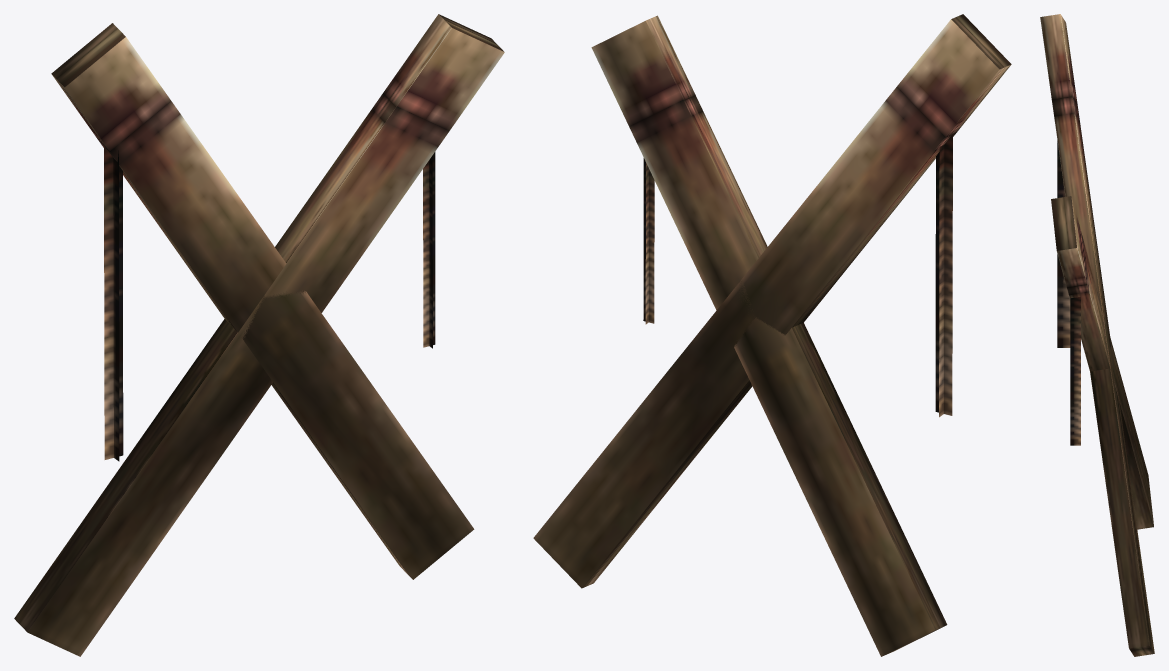
File: stst98.dae
3 views of the same model, side by side, from view 1: azimuth 30°, elevation 25°; view 2: azimuth 150°, elevation 25°; view 3: azimuth 270°, elevation 25° (orthographic). The views are drawn at different scales.
Parts seen in each view (by area): view 1: cross; view 2: cross; view 3: cross.
Boxes of the visible parts, x1,y1,x2,y2 form: cross: (14,14,504,656); cross: (533,14,1011,656); cross: (1040,14,1154,656).
Bounding box in the file's own units: 1.3 × 0.3666 × 1.81.
Materials: 1 (1 with a texture image).
